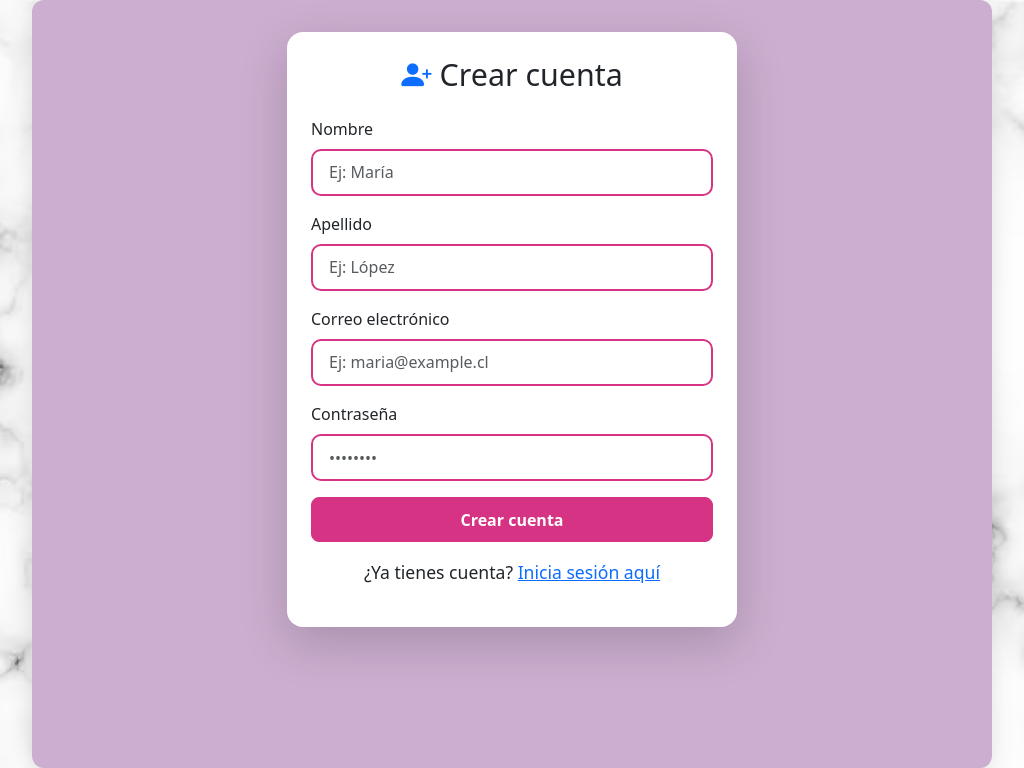
Scenario: Registro page › muestra mensaje de error si el backend responde con error
In the field with placeholder "Ej: María": (512, 172) [311,148,713,196], type "María"
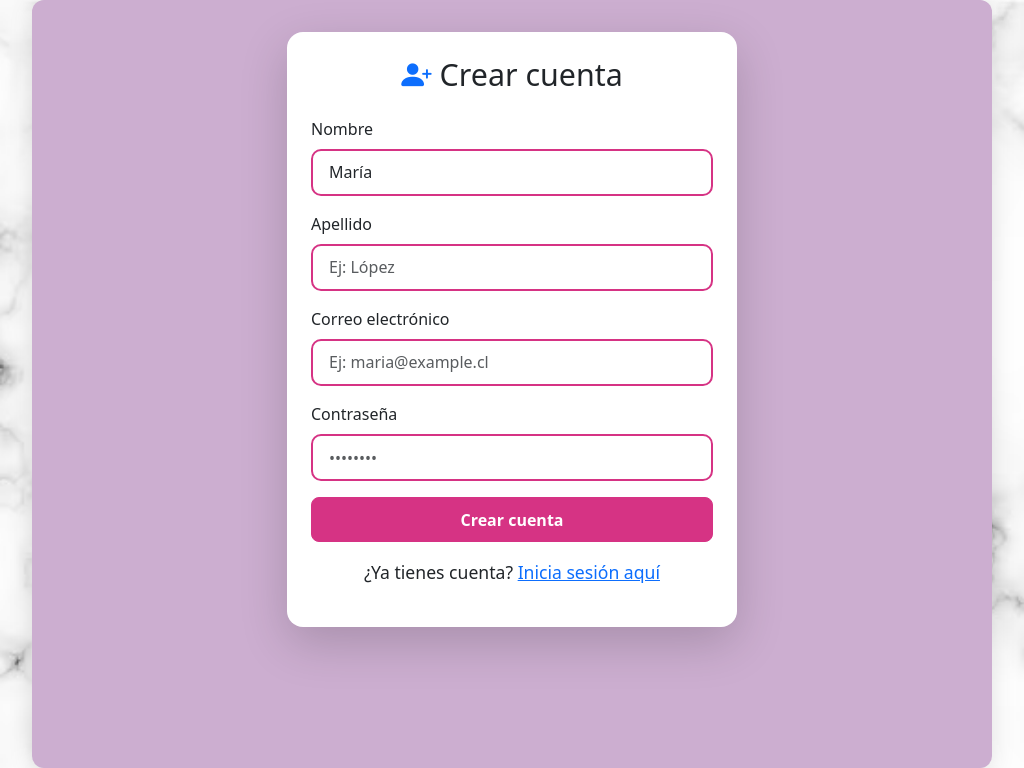
In the field with placeholder "Ej: López": (512, 267) [311,244,713,291], type "López"
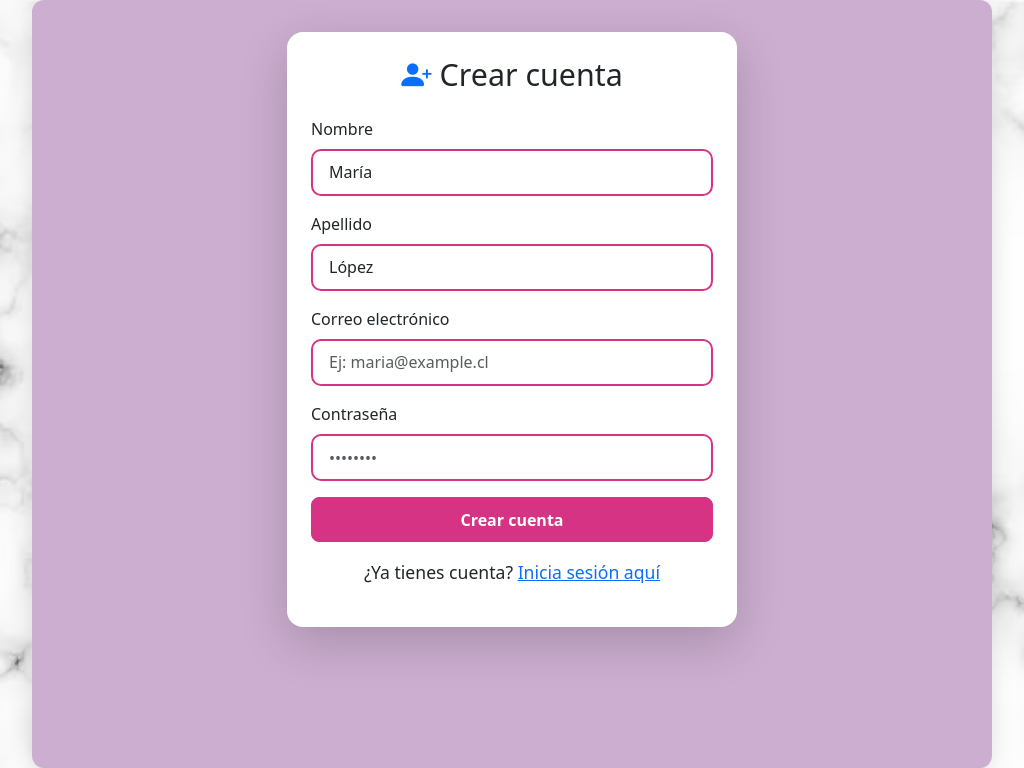
In the field with placeholder "Ej: maria@example.cl": (512, 362) [311,339,713,386], type "maria@example.cl"
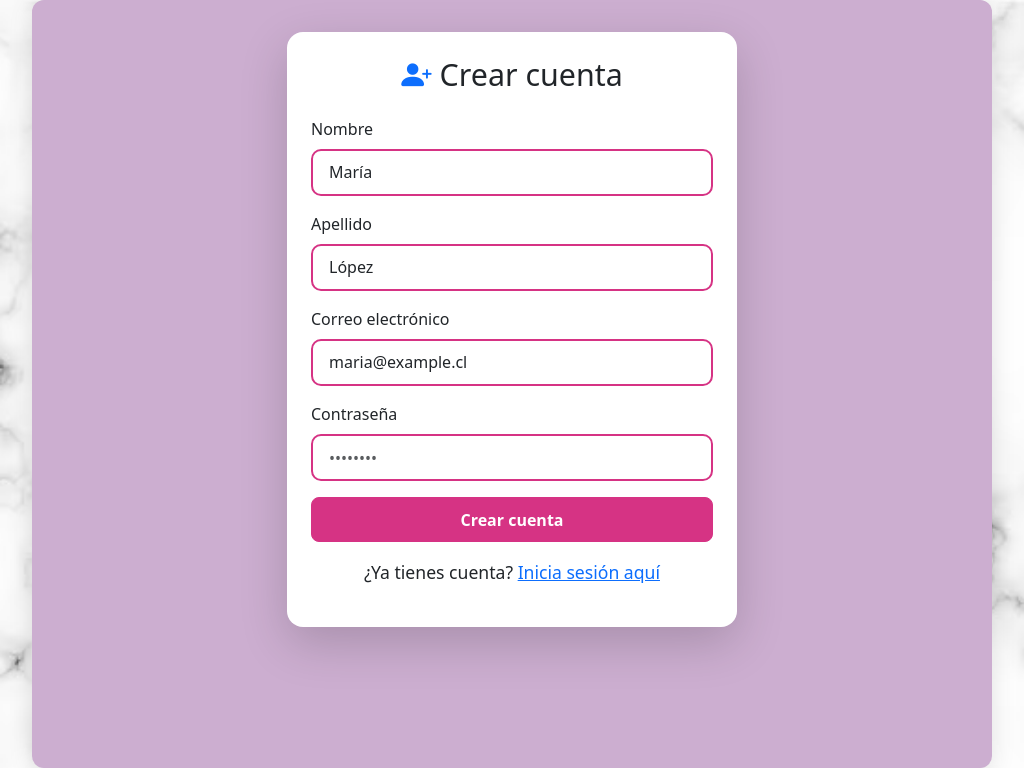
In the password field with placeholder "••••••••": (512, 458) [311,434,713,481], type "12345"
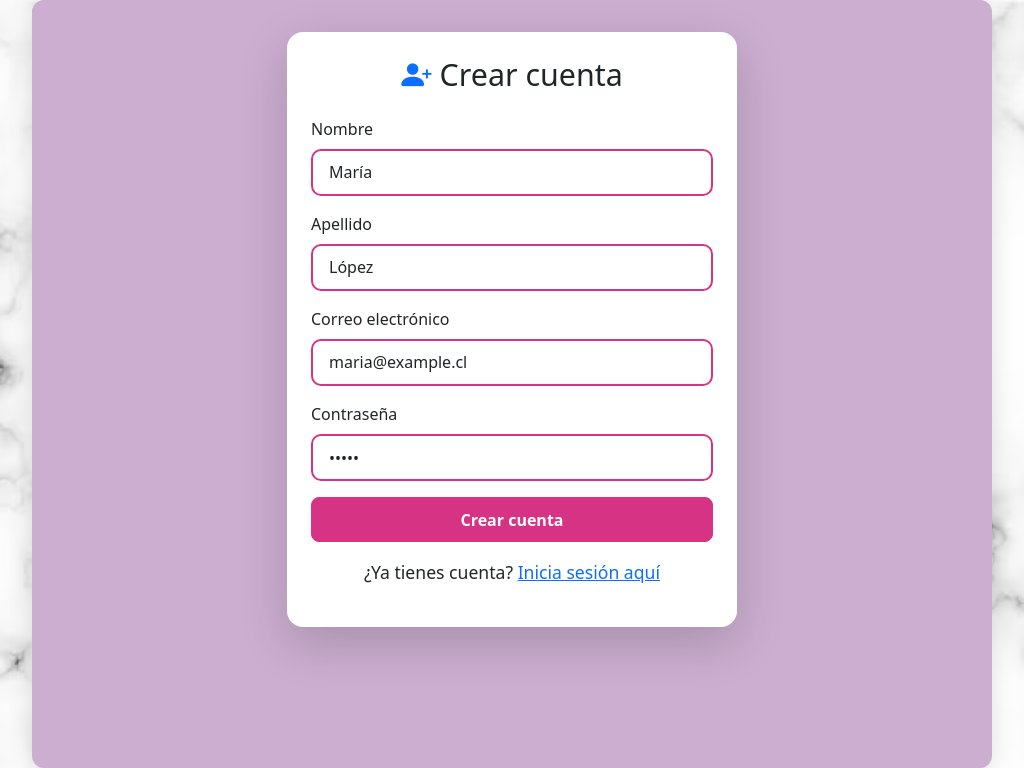
Submit the form with test id "register-form", box [311,116,713,587]
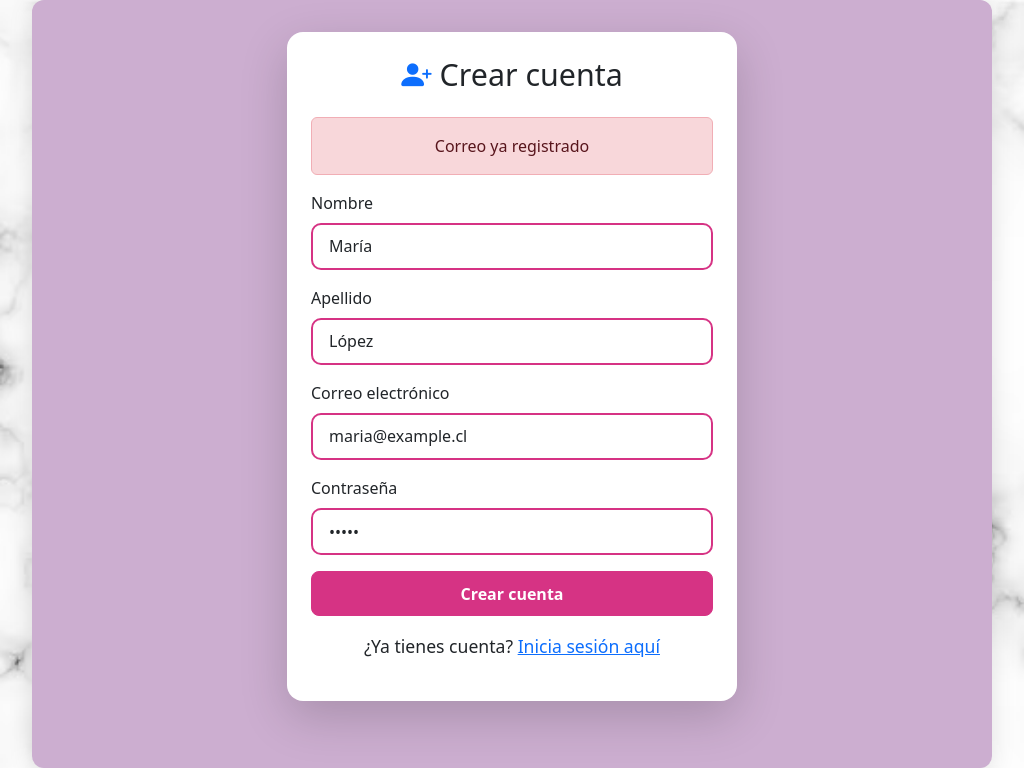
Result: the text "Correo ya registrado" is shown at [311,116,713,174]
